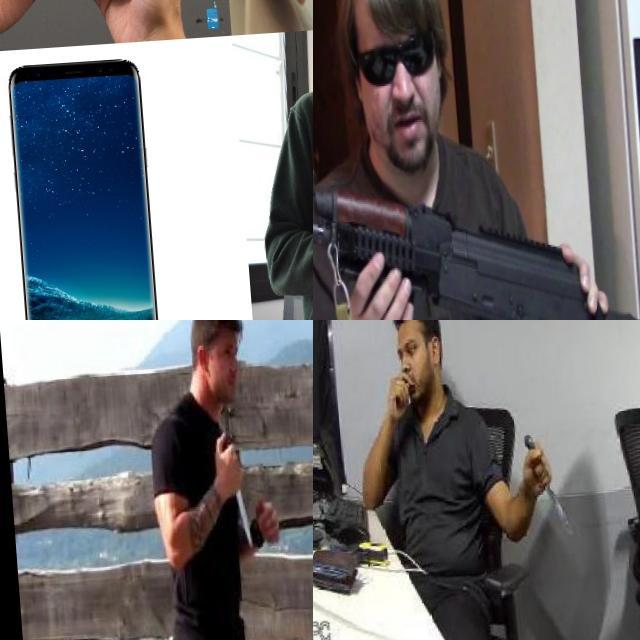-: (210, 432, 249, 558), (524, 454, 574, 544)
gun-knife-thesis - v11 Yolov5 augmented: (313, 168, 640, 320)
